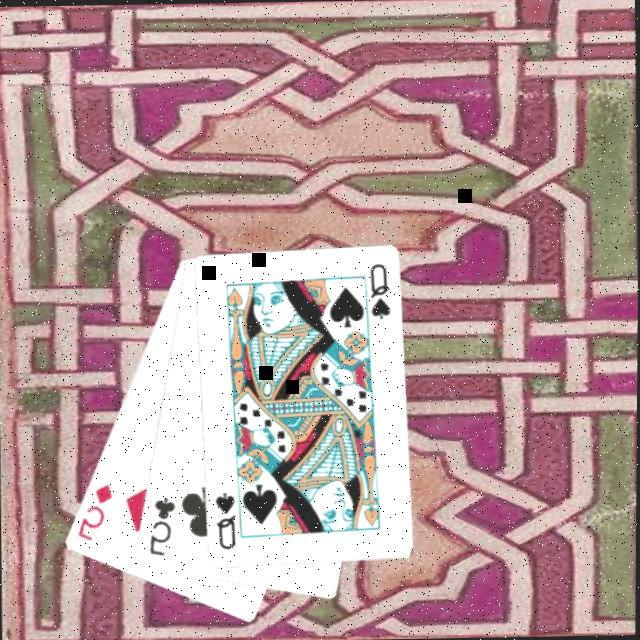5C: (146, 491, 180, 557)
5D: (74, 478, 117, 542)
QS: (212, 486, 240, 550), (368, 258, 394, 320)
